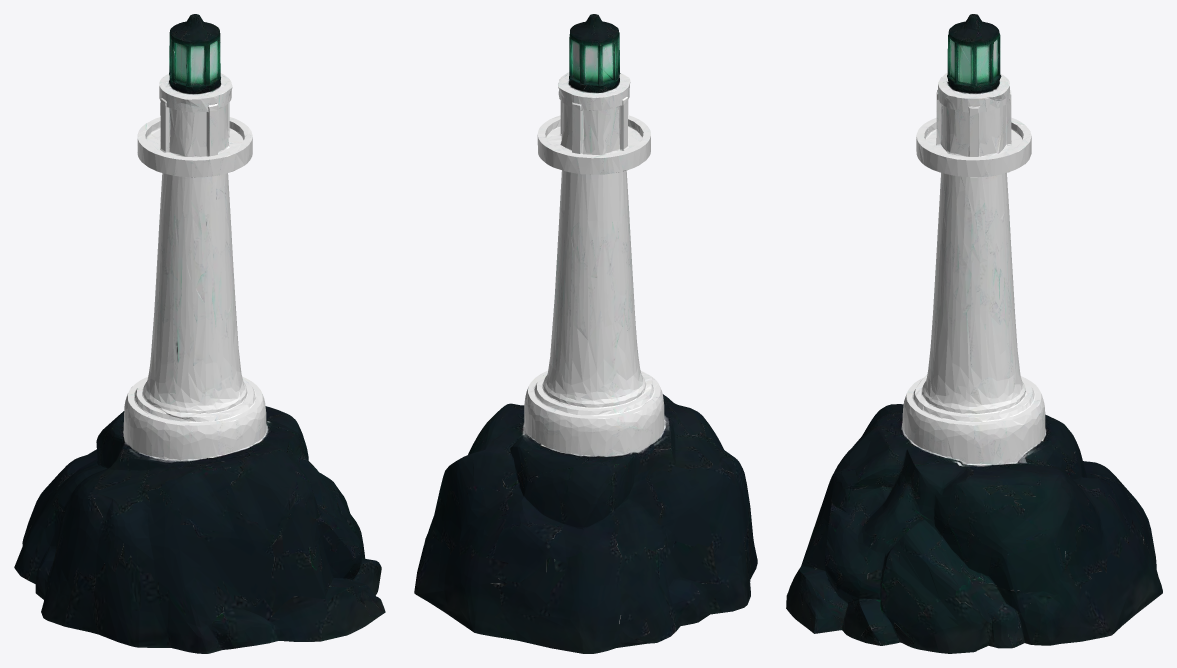
File: donate.glb
3 views of the same model, side by side, from view 1: azimuth 30°, elevation 25°; view 2: azimuth 150°, elevation 25°; view 3: azimuth 270°, elevation 25° (orthographic).
Visible parts, largest first — view 1: GLTF; view 2: GLTF; view 3: GLTF.
Part boxes in pixels (<box>): GLTF: <box>14,14,385,653</box>; GLTF: <box>414,14,757,653</box>; GLTF: <box>786,14,1162,653</box>.
Size of the model in its own units: 0.9297 by 1.65 by 0.9995.
Materials: 1 (1 with a texture image).
